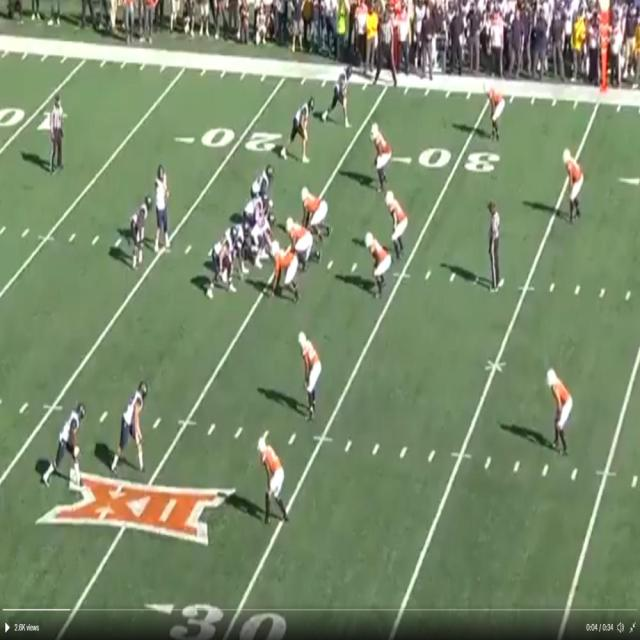center: (251, 216, 269, 259)
db: (261, 438, 289, 518), (548, 365, 570, 450), (301, 333, 319, 415), (565, 148, 585, 218), (488, 82, 506, 137)
lb: (366, 231, 392, 298), (389, 188, 409, 255), (372, 120, 390, 174)
qb: (154, 166, 170, 248)
skill: (49, 402, 84, 488), (118, 378, 148, 474), (130, 195, 150, 269), (293, 106, 311, 158), (335, 67, 347, 106)
